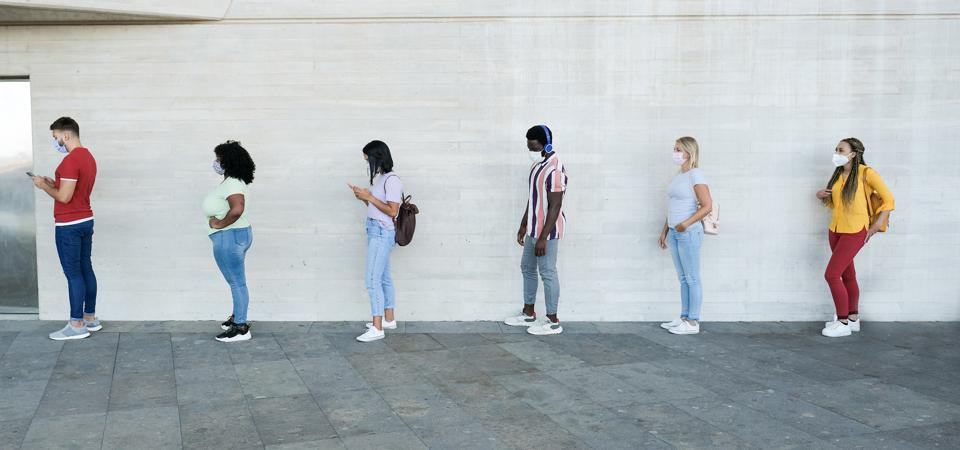with_mask: (211, 141, 254, 179), (522, 125, 557, 166), (49, 118, 82, 159), (360, 140, 397, 175), (830, 136, 867, 170), (669, 138, 703, 170)
